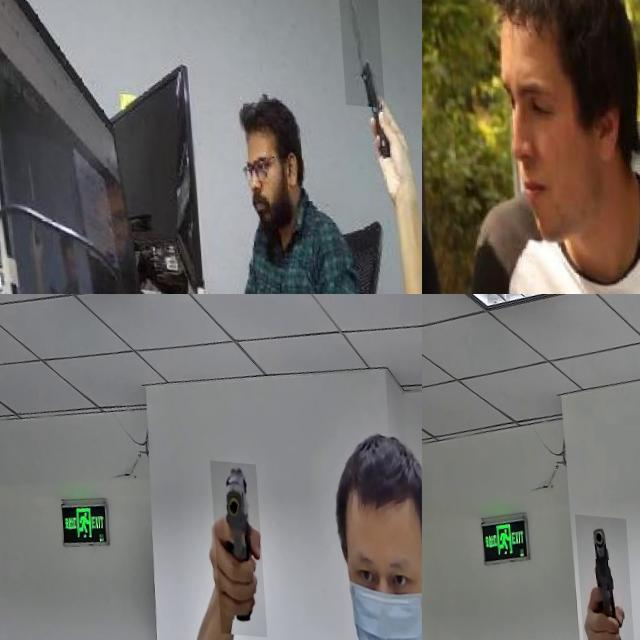-: (334, 0, 381, 98), (422, 191, 461, 294)
gun-knife-thesis - v11 Yolov5 augmented: (206, 455, 260, 632), (569, 509, 629, 640)
